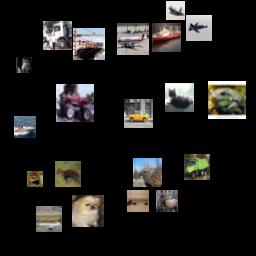airplane: (117, 23, 149, 55), (186, 15, 212, 41), (36, 206, 62, 232), (166, 1, 185, 20)
automobile: (124, 99, 153, 128)
bird: (133, 158, 162, 187)
cat: (165, 83, 194, 112), (16, 57, 32, 73)
deer: (55, 161, 81, 187), (156, 190, 178, 212)
dog: (72, 195, 104, 227)
frog: (208, 81, 246, 119), (27, 171, 43, 187)
ship: (73, 28, 105, 60), (152, 23, 181, 52), (14, 116, 36, 138)
truck: (56, 84, 94, 122), (43, 21, 72, 50), (184, 154, 210, 180), (127, 190, 149, 212)
